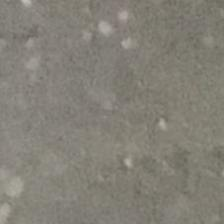Non_Crack: (15, 16, 192, 189)
